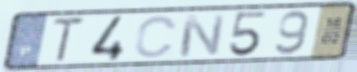4: (88, 14, 128, 63)
5: (227, 9, 269, 58)
9: (274, 9, 311, 57)
C: (132, 14, 180, 60)
N: (177, 12, 228, 59)
T: (50, 16, 88, 64)
